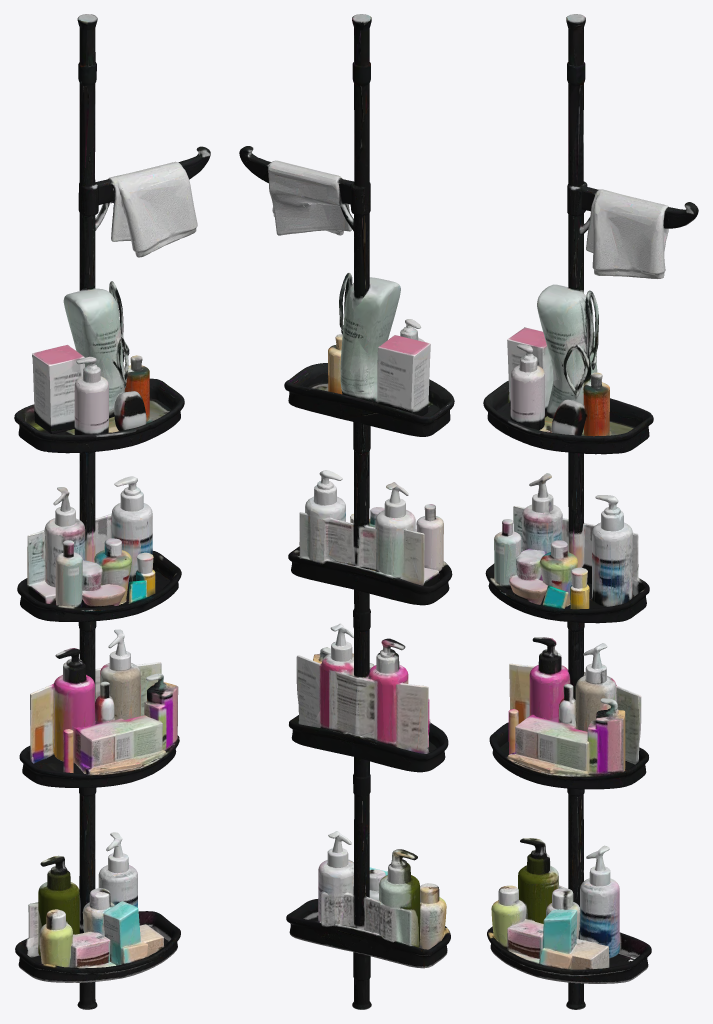
File: wayfair-com-home-improvement-pdp-rebrilliant-nenia-wall-show-0de5ef.glb
3 views of the same model, side by side, from view 1: azimuth 30°, elevation 25°; view 2: azimuth 150°, elevation 25°; view 3: azimuth 330°, elevation 25° (orthographic).
Visible parts, largest first — view 1: Mesh_0; view 2: Mesh_0; view 3: Mesh_0.
Part boxes in pixels (x1=…): Mesh_0: x1=14, y1=14, x2=210, y2=1009; Mesh_0: x1=239, y1=14, x2=454, y2=1009; Mesh_0: x1=483, y1=14, x2=698, y2=1009.
Size of the model in its own units: 0.3904 by 1.9 by 0.173.
1 material, 1 textured.
